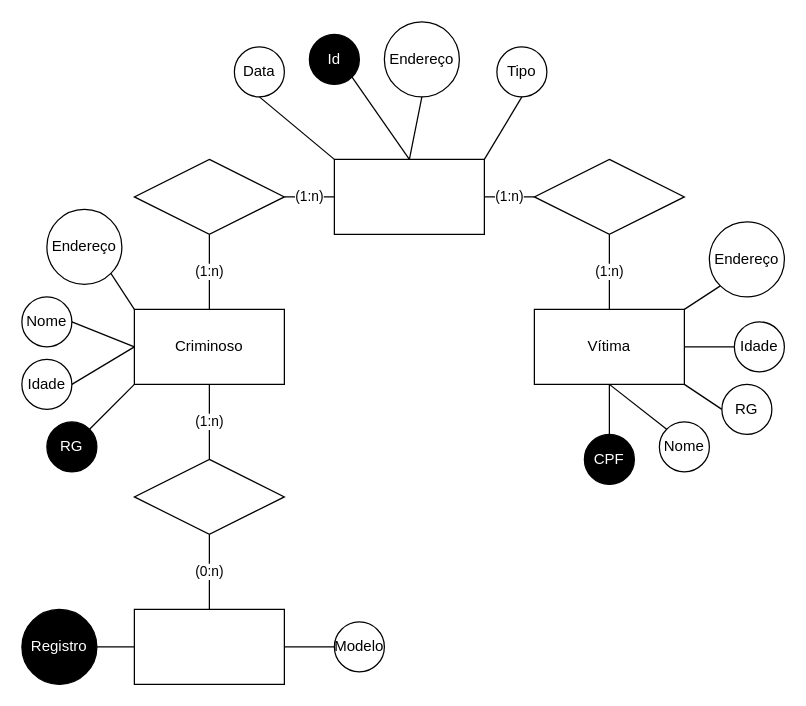
This 806x706 diagram has some shape labels left out. The shapes that lost their labels are listed below. From the top down, each one's centre as x and y in pixels, then its label:
the point at 208,196: Comete
the point at 408,196: Crime
the point at 608,196: Sofre
the point at 208,496: Usa
the point at 208,646: Arma
